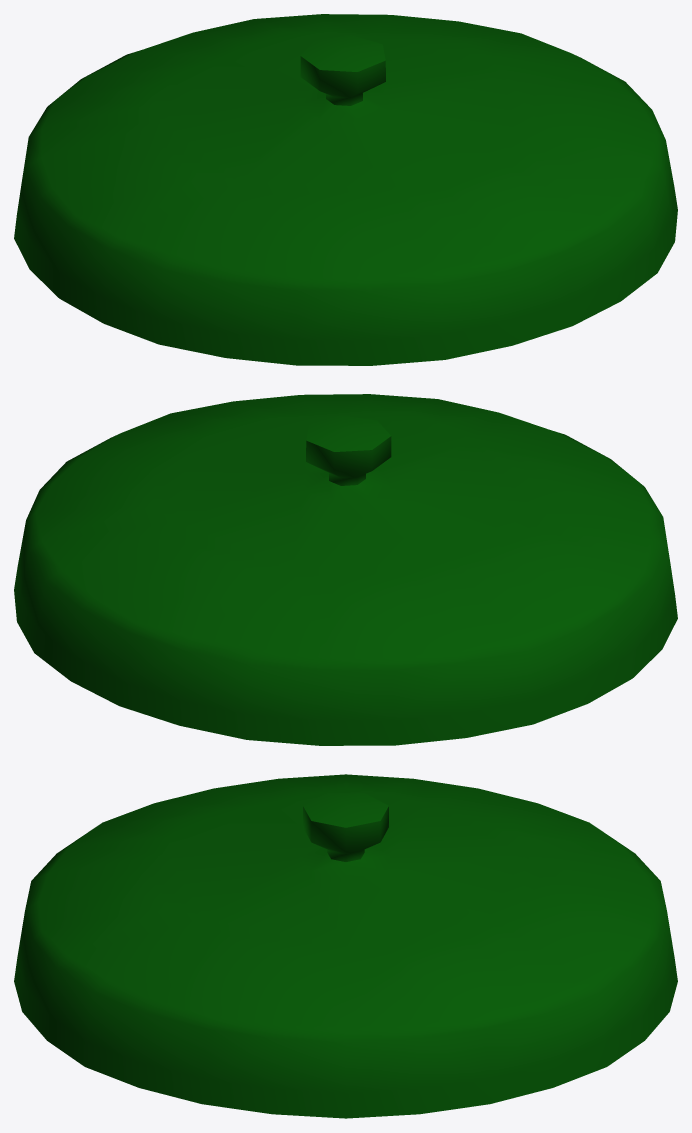
The model's file is jug12a.FBX.
The picture shows the model from 3 angles, top to bottom: view 1: azimuth 30°, elevation 25°; view 2: azimuth 150°, elevation 25°; view 3: azimuth 270°, elevation 25°; orthographic projection.
Parts seen in each view (by area): view 1: SM_jug12a_0; view 2: SM_jug12a_0; view 3: SM_jug12a_0.
Part boxes in pixels (x1,y1,x2,y2): SM_jug12a_0: (14, 14, 677, 365); SM_jug12a_0: (14, 394, 677, 745); SM_jug12a_0: (14, 774, 677, 1118).
Bounding box in the file's own units: 35.41 × 35.29 × 10.59.
